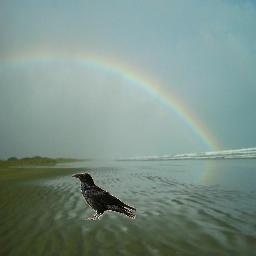Crow: (72, 173, 136, 220)
